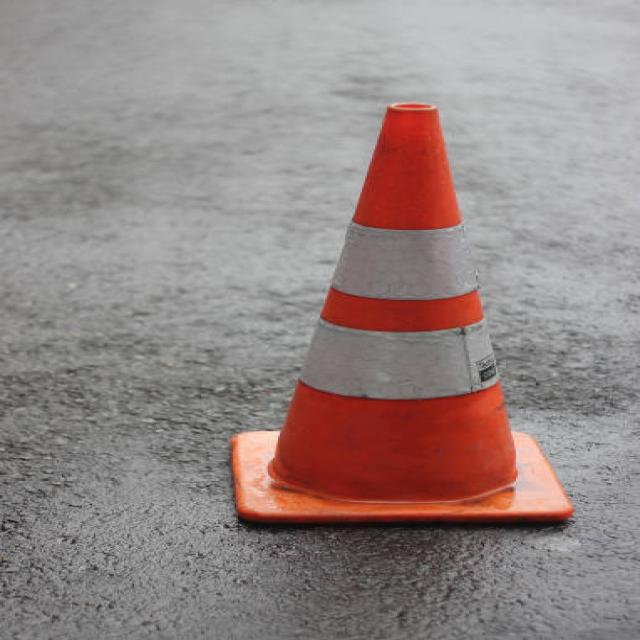Traffic Cone: (159, 57, 634, 577)
